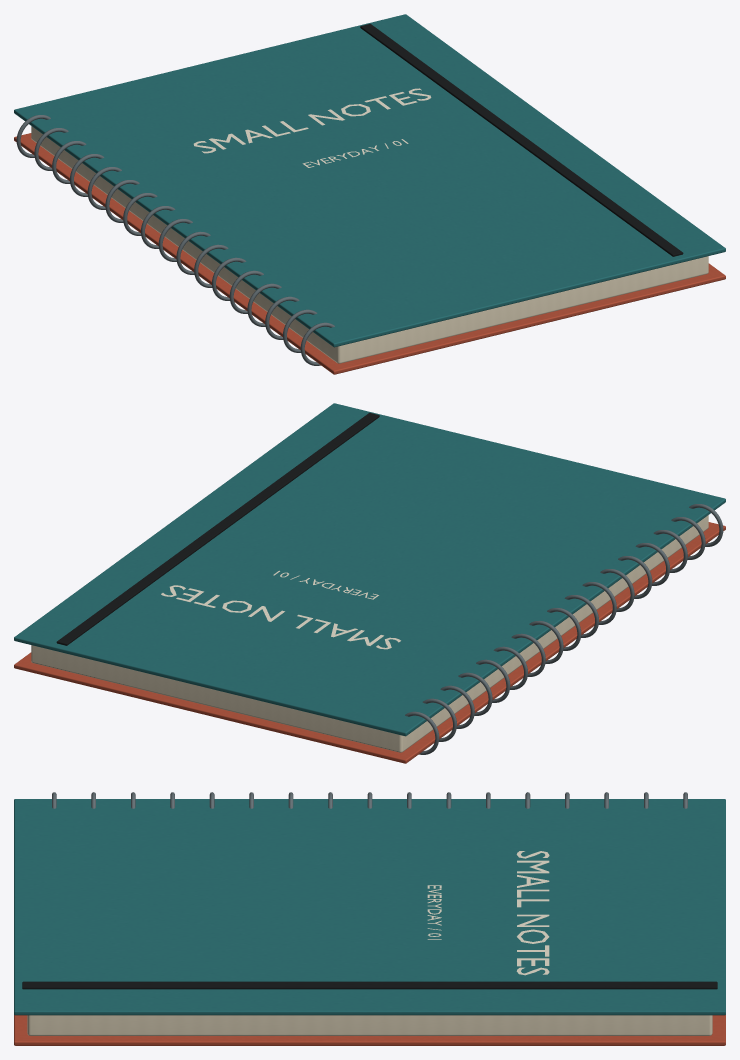
Rendered from notebook_01.glb.
3 renders of one model, top to bottom at view 1: azimuth 30°, elevation 25°; view 2: azimuth 150°, elevation 25°; view 3: azimuth 270°, elevation 25°, orthographic. The views are drawn at different scales.
Visible parts, largest first — view 1: notebook_01; view 2: notebook_01; view 3: notebook_01.
Boxes of the visible parts, <box> form: notebook_01: <box>14,14,725,374</box>; notebook_01: <box>14,403,725,763</box>; notebook_01: <box>14,792,725,1045</box>.
Size of the model in its own units: 0.1557 by 0.0154 by 0.212.
6 materials, 6 textured.
